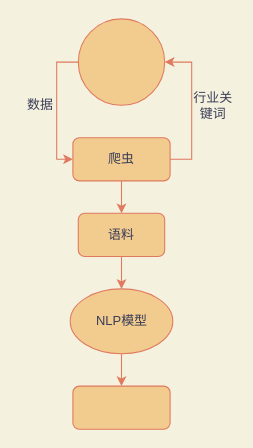
This 253x448 diagram has some shape labels left out. The centre of each missing label's shape, as x and y in pixels:
百度搜索: the point at 121,61
识别行业: the point at 121,407
